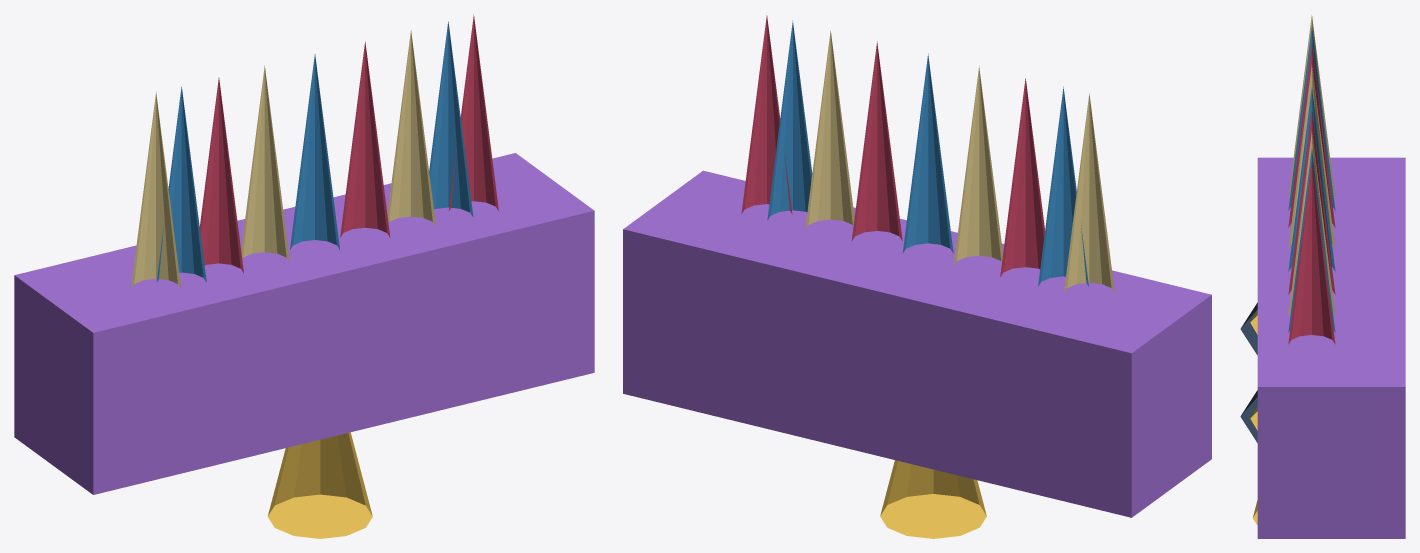
File: minglora_carnival_mask.gltf
The picture shows the model from 3 angles, left to right: view 1: azimuth 30°, elevation 25°; view 2: azimuth 150°, elevation 25°; view 3: azimuth 270°, elevation 25°; orthographic projection. The views are drawn at different scales.
Parts seen in each view (by area): view 1: minglora_carnival_mask_part_0, minglora_carnival_mask_part_5, minglora_carnival_mask_part_10, minglora_carnival_mask_part_9, minglora_carnival_mask_part_11, minglora_carnival_mask_part_8, minglora_carnival_mask_part_14, minglora_carnival_mask_part_12, minglora_carnival_mask_part_7, minglora_carnival_mask_part_13, minglora_carnival_mask_part_6; view 2: minglora_carnival_mask_part_0, minglora_carnival_mask_part_5, minglora_carnival_mask_part_10, minglora_carnival_mask_part_9, minglora_carnival_mask_part_11, minglora_carnival_mask_part_8, minglora_carnival_mask_part_14, minglora_carnival_mask_part_12, minglora_carnival_mask_part_7, minglora_carnival_mask_part_13, minglora_carnival_mask_part_6; view 3: minglora_carnival_mask_part_0, minglora_carnival_mask_part_6, minglora_carnival_mask_part_10, minglora_carnival_mask_part_11, minglora_carnival_mask_part_9, minglora_carnival_mask_part_12, minglora_carnival_mask_part_13, minglora_carnival_mask_part_8, minglora_carnival_mask_part_7, minglora_carnival_mask_part_14, minglora_carnival_mask_part_3, minglora_carnival_mask_part_4.
Boxes of the visible parts, left/top/right/bottom form: minglora_carnival_mask_part_0: left=14, top=153, right=594, bottom=494; minglora_carnival_mask_part_5: left=267, top=432, right=372, bottom=538; minglora_carnival_mask_part_10: left=290, top=54, right=339, bottom=249; minglora_carnival_mask_part_9: left=340, top=41, right=390, bottom=237; minglora_carnival_mask_part_11: left=241, top=65, right=289, bottom=262; minglora_carnival_mask_part_8: left=387, top=30, right=435, bottom=226; minglora_carnival_mask_part_14: left=131, top=92, right=181, bottom=288; minglora_carnival_mask_part_12: left=199, top=77, right=243, bottom=273; minglora_carnival_mask_part_7: left=429, top=21, right=473, bottom=217; minglora_carnival_mask_part_13: left=156, top=86, right=206, bottom=282; minglora_carnival_mask_part_6: left=448, top=14, right=498, bottom=211; minglora_carnival_mask_part_0: left=623, top=170, right=1211, bottom=517; minglora_carnival_mask_part_5: left=880, top=460, right=986, bottom=538; minglora_carnival_mask_part_10: left=902, top=53, right=953, bottom=253; minglora_carnival_mask_part_9: left=851, top=41, right=902, bottom=240; minglora_carnival_mask_part_11: left=953, top=66, right=1002, bottom=265; minglora_carnival_mask_part_8: left=805, top=31, right=854, bottom=229; minglora_carnival_mask_part_14: left=1064, top=93, right=1114, bottom=292; minglora_carnival_mask_part_12: left=1000, top=78, right=1044, bottom=277; minglora_carnival_mask_part_7: left=767, top=20, right=812, bottom=220; minglora_carnival_mask_part_13: left=1038, top=86, right=1088, bottom=286; minglora_carnival_mask_part_6: left=741, top=15, right=792, bottom=214; minglora_carnival_mask_part_0: left=1257, top=157, right=1405, bottom=538; minglora_carnival_mask_part_6: left=1288, top=160, right=1335, bottom=344; minglora_carnival_mask_part_10: left=1288, top=87, right=1335, bottom=271; minglora_carnival_mask_part_11: left=1288, top=64, right=1335, bottom=248; minglora_carnival_mask_part_9: left=1288, top=110, right=1335, bottom=294; minglora_carnival_mask_part_12: left=1288, top=43, right=1335, bottom=227; minglora_carnival_mask_part_13: left=1288, top=26, right=1335, bottom=210; minglora_carnival_mask_part_8: left=1288, top=131, right=1335, bottom=315; minglora_carnival_mask_part_7: left=1288, top=148, right=1335, bottom=332; minglora_carnival_mask_part_14: left=1288, top=15, right=1335, bottom=198; minglora_carnival_mask_part_3: left=1240, top=302, right=1257, bottom=355; minglora_carnival_mask_part_4: left=1240, top=390, right=1257, bottom=442.
Size of the model in its own units: 2.2 by 1.93 by 0.67.
